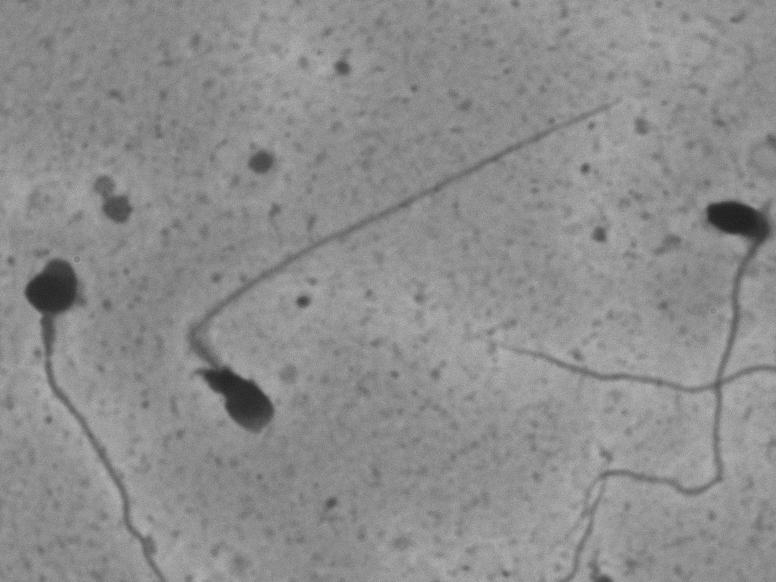Abnormal: (170, 72, 637, 443), (567, 180, 770, 533), (8, 243, 171, 565)
